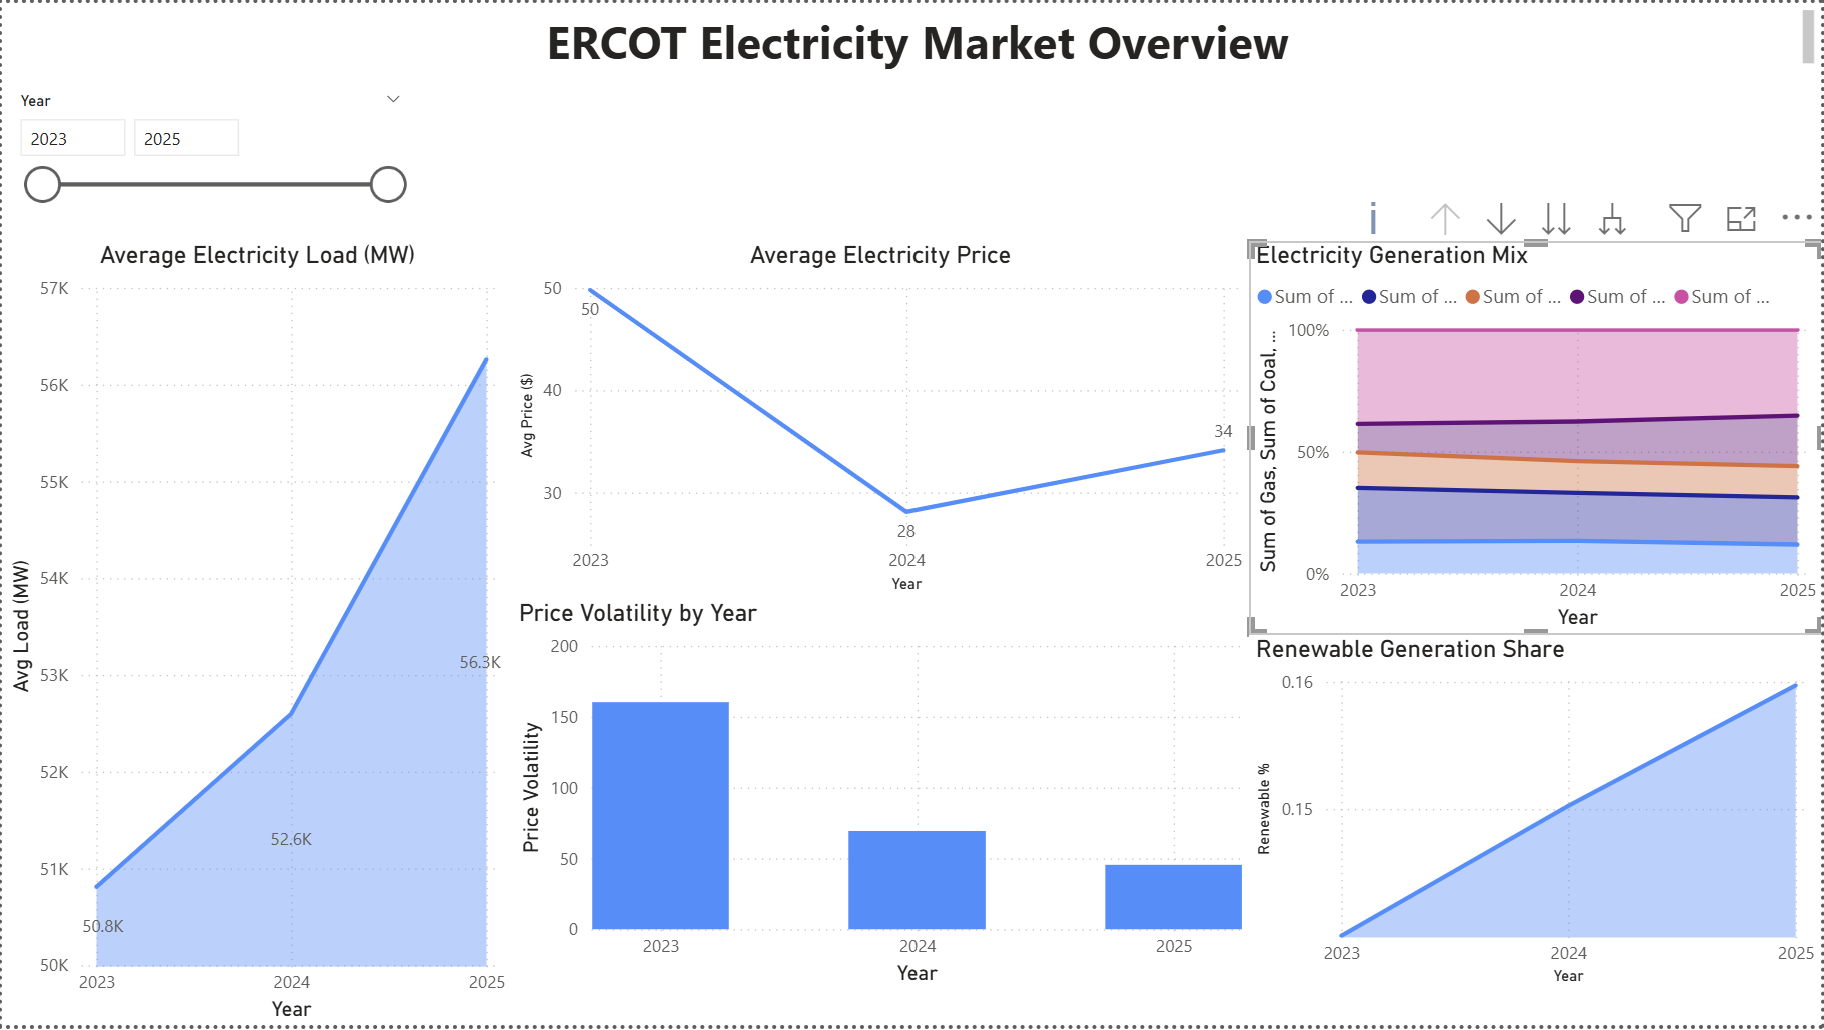

This screenshot's page, from the dashboard's own definition file:
{"tool":"powerbi","page":{"name":"Page 1","canvas":[1280,720],"ordinal":0},"visuals":[{"type":"textbox","box":[16.9,0,1263.4,57.7],"z":0},{"type":"stackedAreaChart","title":"Average Electricity Load (MW)","fields":{"Category":["DateTable.Date.Variation.Date Hierarchy.Year","DateTable.Date.Variation.Date Hierarchy.Quarter","DateTable.Date.Variation.Date Hierarchy.Month","DateTable.Date.Variation.Date Hierarchy.Day"],"Y":["DateTable.Avg Load (MW)"]},"box":[0,167.6,359.2,553.5],"z":1000},{"type":"lineChart","title":"Average Electricity Price","fields":{"Category":["DateTable.Date.Variation.Date Hierarchy.Year","DateTable.Date.Variation.Date Hierarchy.Quarter","DateTable.Date.Variation.Date Hierarchy.Month","DateTable.Date.Variation.Date Hierarchy.Day"],"Y":["DateTable.Avg Price ($)"]},"box":[359.2,167.6,518.3,252.1],"z":2000},{"type":"clusteredColumnChart","fields":{"Category":["DateTable.Date.Variation.Date Hierarchy.Year","DateTable.Date.Variation.Date Hierarchy.Quarter","DateTable.Date.Variation.Date Hierarchy.Month","DateTable.Date.Variation.Date Hierarchy.Day"],"Y":["DateTable.Price Volatility"]},"box":[359.2,419.7,518.3,276.1],"z":3000},{"type":"hundredPercentStackedAreaChart","title":"Electricity Generation Mix","fields":{"Category":["DateTable.Date.Variation.Date Hierarchy.Year","DateTable.Date.Variation.Date Hierarchy.Quarter","DateTable.Date.Variation.Date Hierarchy.Month","DateTable.Date.Variation.Date Hierarchy.Day"],"Y":["Sum(generation_monthly_clean.Gas)","Sum(generation_monthly_clean.Coal)","Sum(generation_monthly_clean.Nuclear)","Sum(generation_monthly_clean.Solar)","Sum(generation_monthly_clean.Wind)"]},"box":[877.5,167.6,404.2,277.5],"z":4000},{"type":"areaChart","title":"Renewable Generation Share","fields":{"Category":["DateTable.Date.Variation.Date Hierarchy.Year","DateTable.Date.Variation.Date Hierarchy.Quarter","DateTable.Date.Variation.Date Hierarchy.Month","DateTable.Date.Variation.Date Hierarchy.Day"],"Y":["DateTable.Renewable %"]},"box":[877,445,403,251],"z":5000},{"type":"slicer","fields":{"Values":["DateTable.Year"]},"box":[0,57.7,293,93],"z":6000}]}

Visuals, with their boxes on the page's 1280x720 design canvas (x1, y1, x2, y2). These are canvas units, not pixel positions in the 1824x1030 screenshot, which may show the page scaled, cropped or inside an application window:
textbox: <region>17, 0, 1280, 58</region>
"Average Electricity Load (MW)" stackedAreaChart: <region>0, 168, 359, 721</region>
"Average Electricity Price" lineChart: <region>359, 168, 878, 420</region>
clusteredColumnChart - DateTable.Date.Variation.Date Hierarchy.Year x DateTable.Date.Variation.Date Hierarchy.Quarter: <region>359, 420, 878, 696</region>
"Electricity Generation Mix" hundredPercentStackedAreaChart: <region>878, 168, 1282, 445</region>
"Renewable Generation Share" areaChart: <region>877, 445, 1280, 696</region>
slicer - DateTable.Year: <region>0, 58, 293, 151</region>
